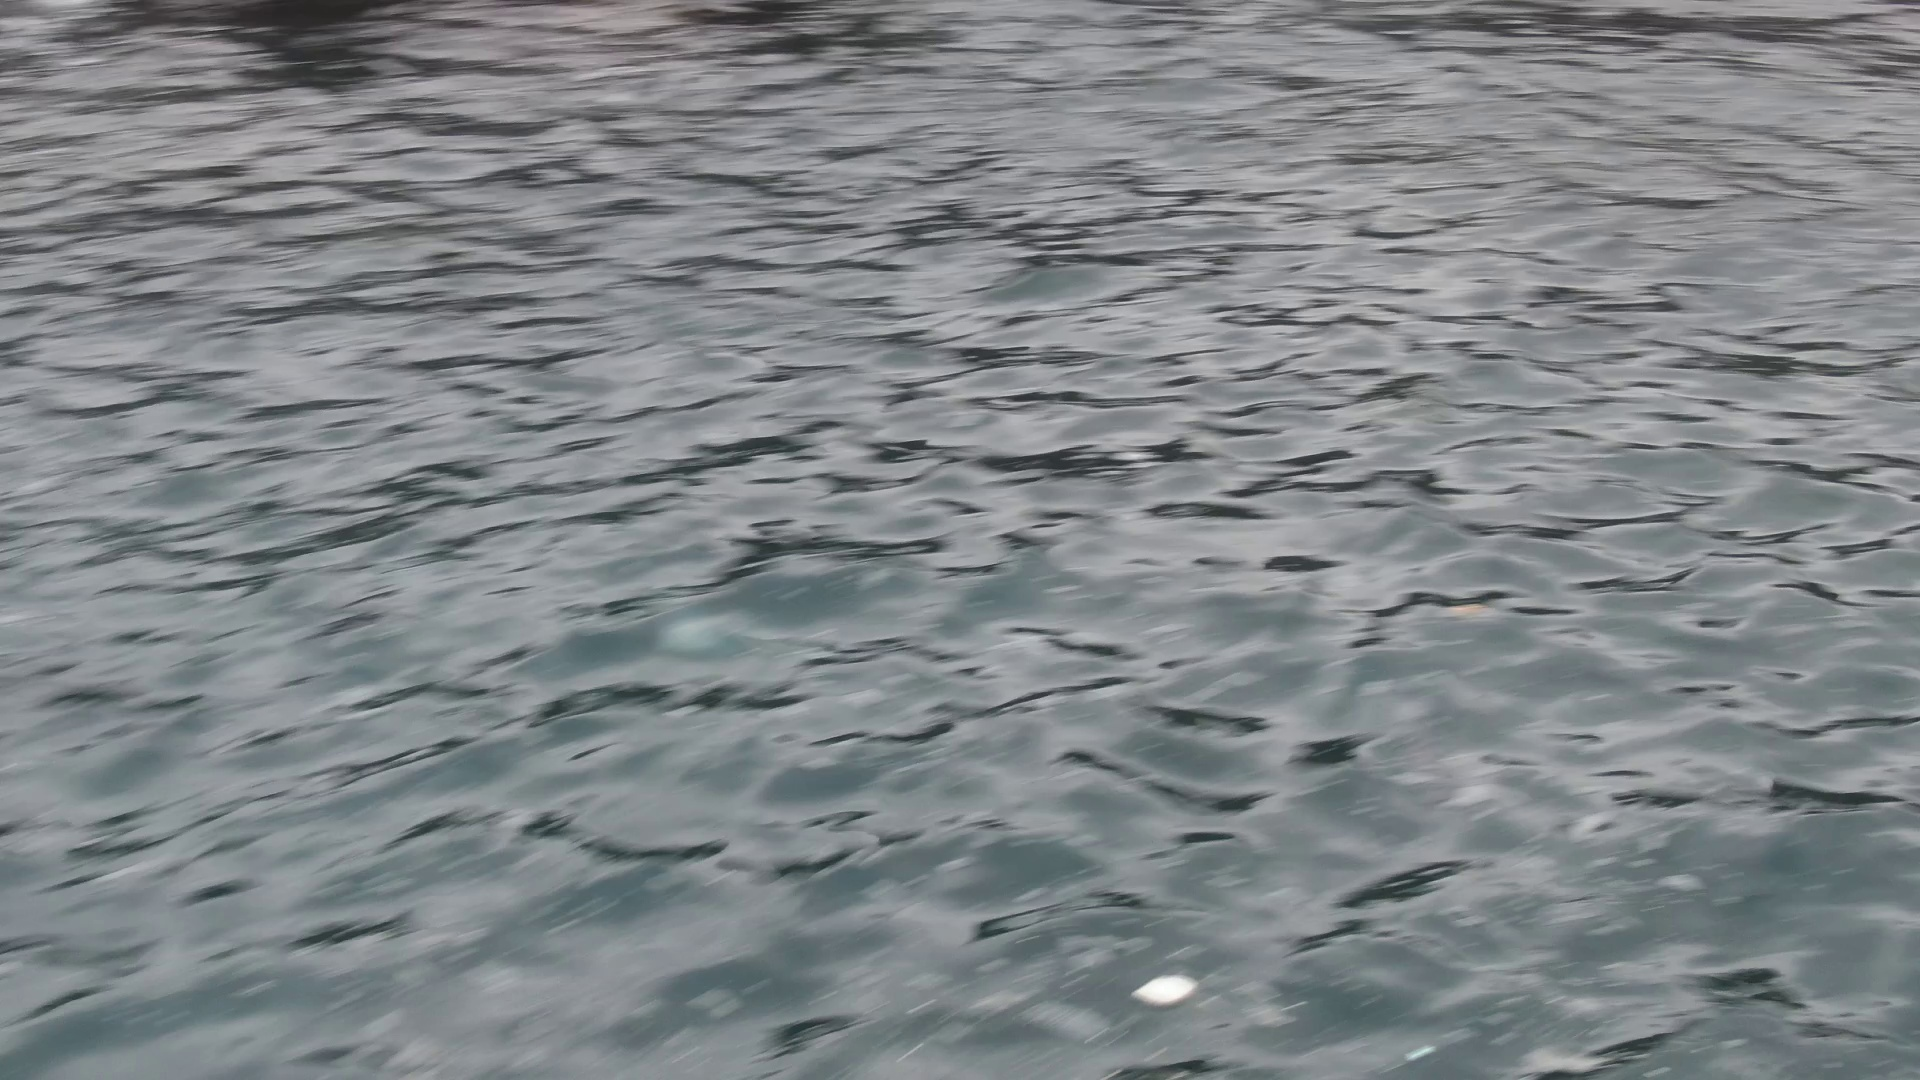garbage: (1134, 972, 1197, 1010)
